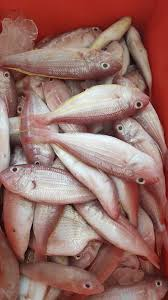Ikan Kerisi: (36, 129, 168, 189), (31, 76, 159, 128), (1, 160, 105, 212), (7, 43, 125, 84), (21, 255, 110, 298)
